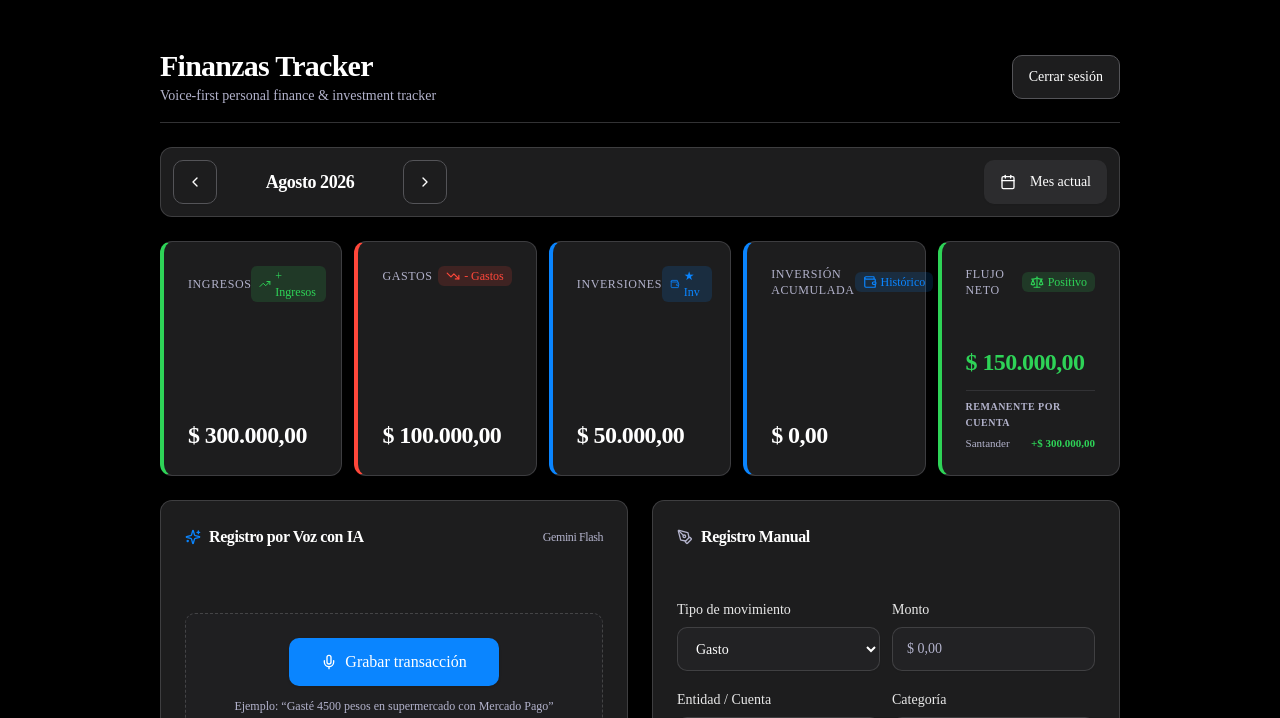
Test: Dashboard UI Components › DashboardClient › renders transaction creation forms and refetches dashboard on transaction save
Type "500.00" into the field labelled "Monto" at (994, 649), box top-left (892, 627), bottom-right (1095, 671)
(page scrolled)
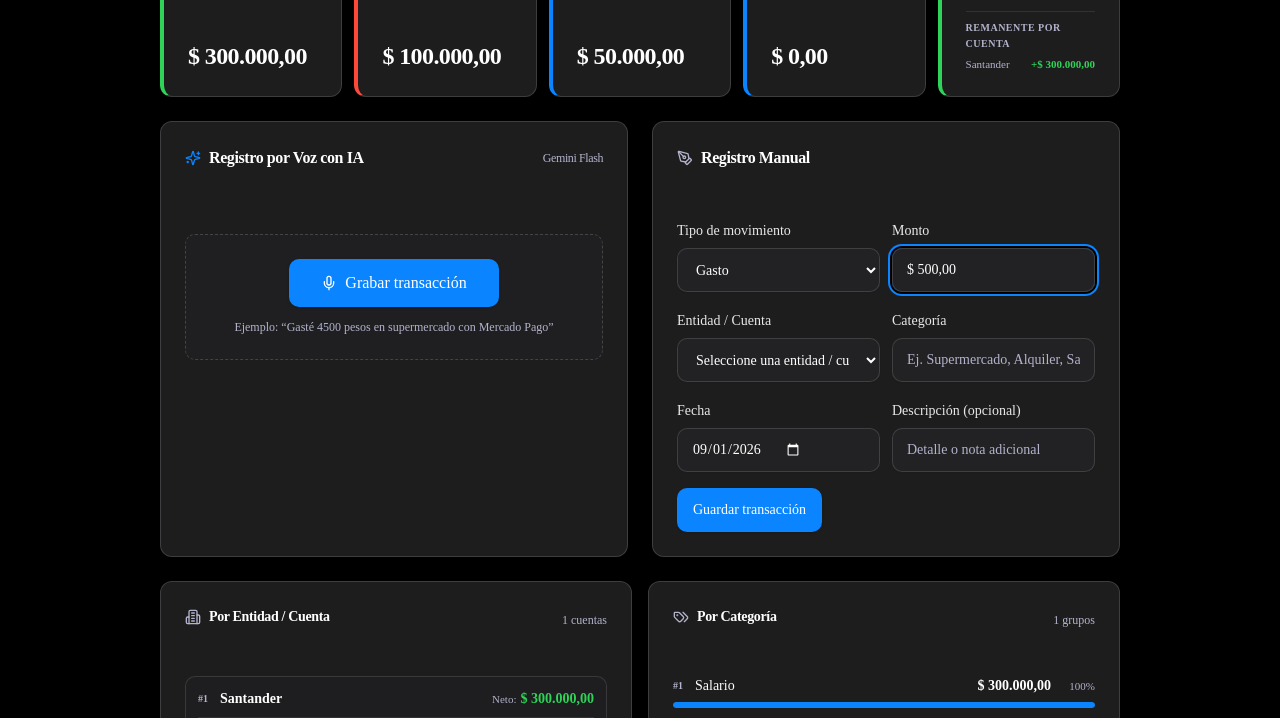
Select "Mercado Pago" in the dropdown labelled "Entidad / Cuenta" at (778, 360), box top-left (677, 338), bottom-right (880, 382)
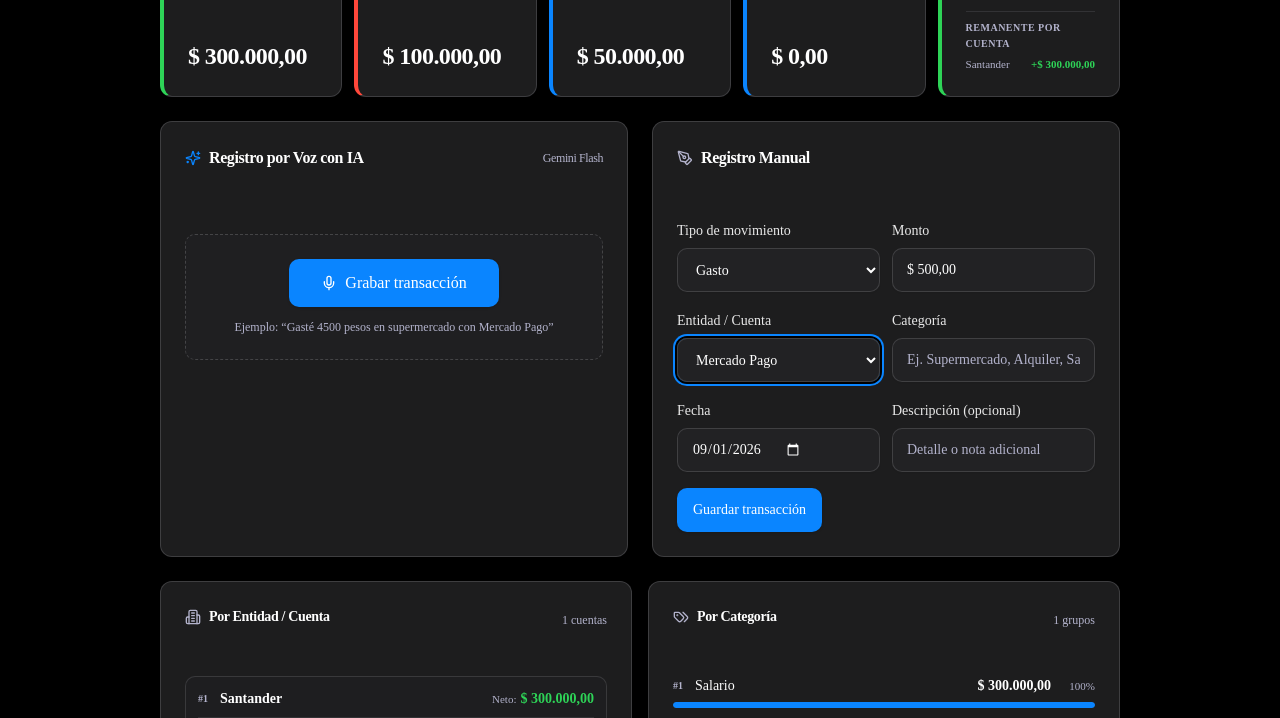
Type "Cena" into the field labelled "Categoría" at (994, 360), box top-left (892, 338), bottom-right (1095, 382)
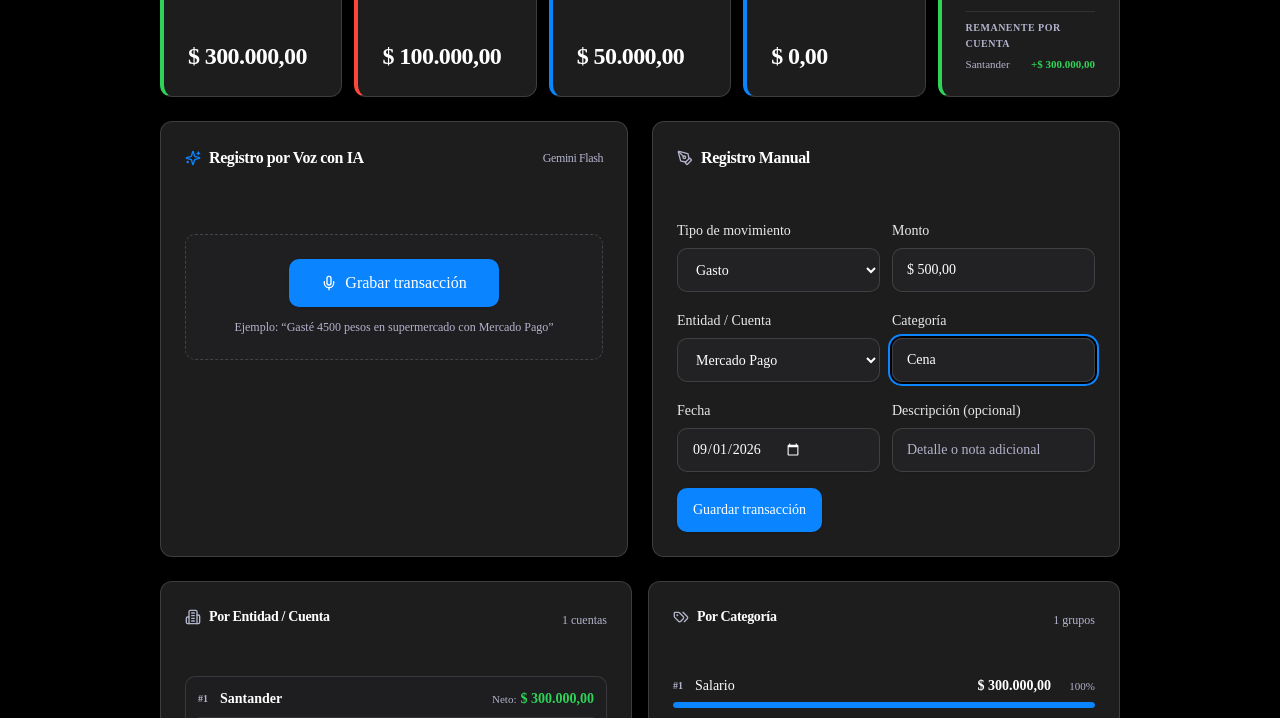
Click the button "Guardar transacción" at (750, 510), box top-left (677, 488), bottom-right (822, 532)
(page scrolled)
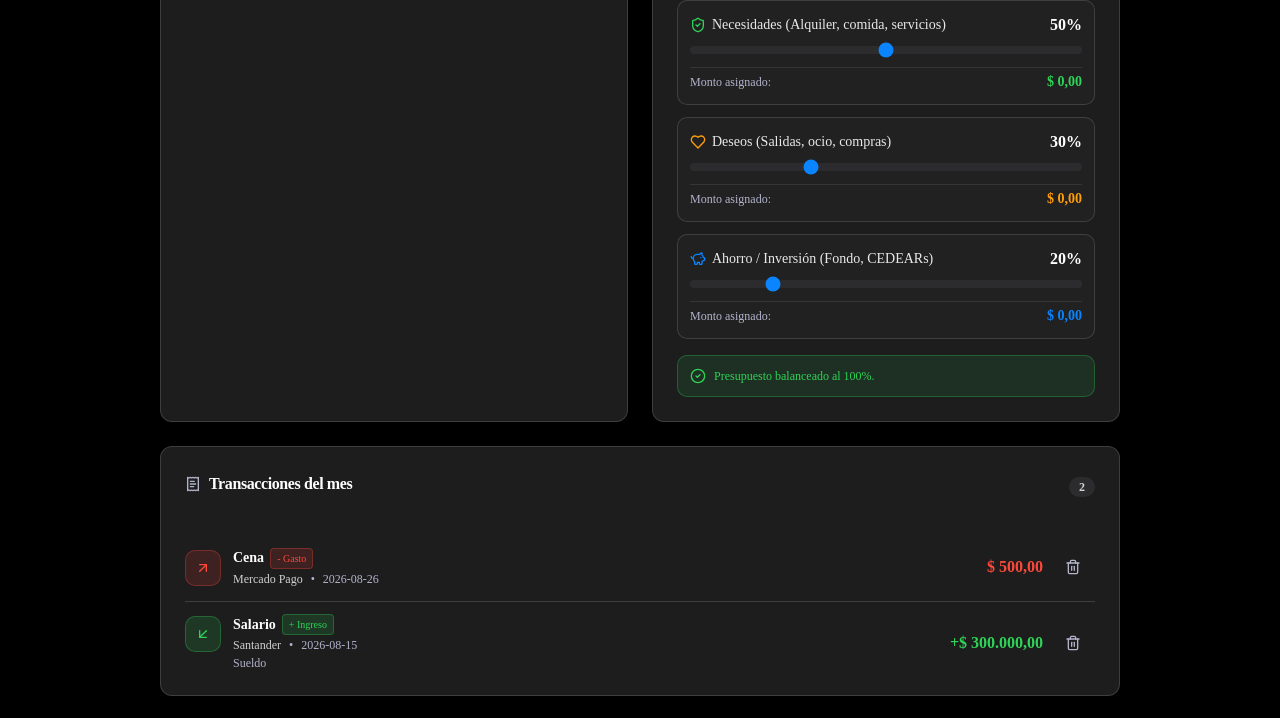
expect the text "Cena" is shown: met, box top-left (233, 548), bottom-right (264, 568)
